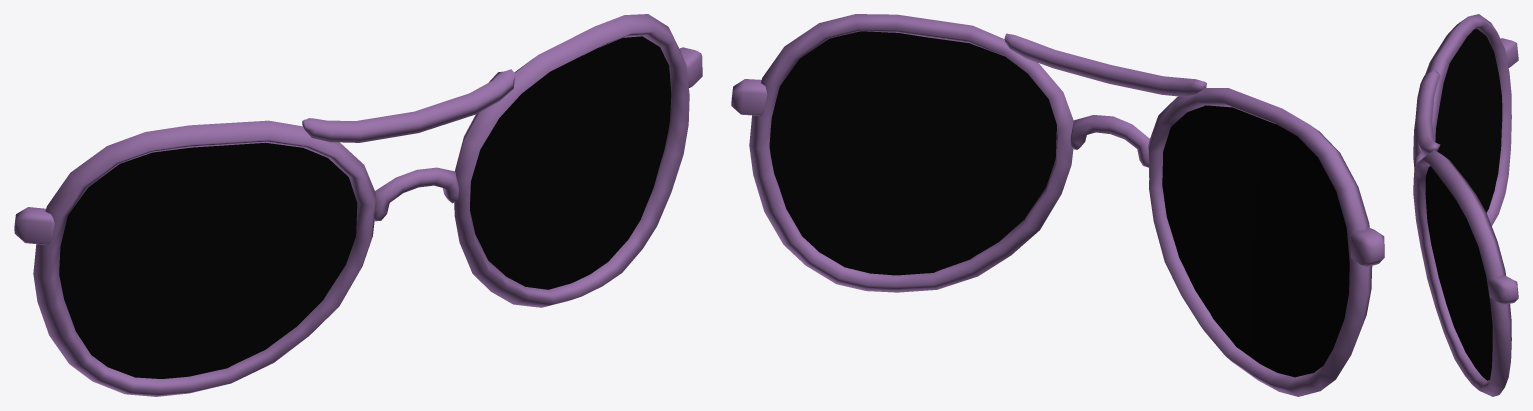
Rendered from AccessoryGlassDoublebridge1.glb.
The picture shows the model from 3 angles, left to right: view 1: azimuth 30°, elevation 25°; view 2: azimuth 150°, elevation 25°; view 3: azimuth 270°, elevation 25°; orthographic projection. The views are drawn at different scales.
Visible parts, largest first — view 1: AccessoryAlpha1__mAccessoryAlpha, Accessory__mAccessory; view 2: AccessoryAlpha1__mAccessoryAlpha, Accessory__mAccessory; view 3: AccessoryAlpha1__mAccessoryAlpha, Accessory__mAccessory.
Part boxes in pixels (<box>): AccessoryAlpha1__mAccessoryAlpha: <box>59,36,671,378</box>; Accessory__mAccessory: <box>14,14,702,396</box>; AccessoryAlpha1__mAccessoryAlpha: <box>769,31,1349,377</box>; Accessory__mAccessory: <box>731,14,1384,396</box>; AccessoryAlpha1__mAccessoryAlpha: <box>1425,29,1502,380</box>; Accessory__mAccessory: <box>1413,14,1518,396</box>.
Size of the model in its own units: 6.39 by 2.5 by 1.14.
2 materials, 2 textured.
